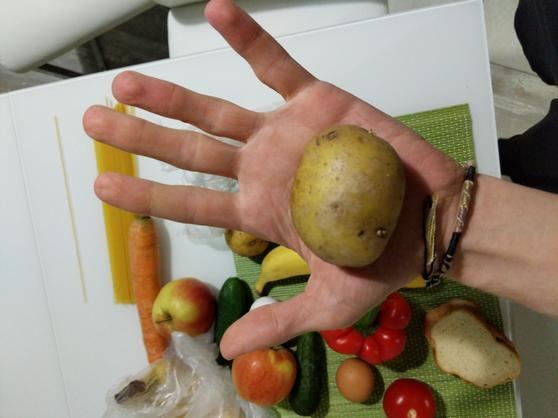carrot: (129, 213, 172, 362)
egg: (332, 354, 377, 405)
pepper: (317, 289, 416, 365)
potato: (290, 117, 405, 272)
spaghetti: (75, 94, 130, 304)
tomato: (381, 377, 447, 418)
white_bread: (418, 295, 522, 395)
